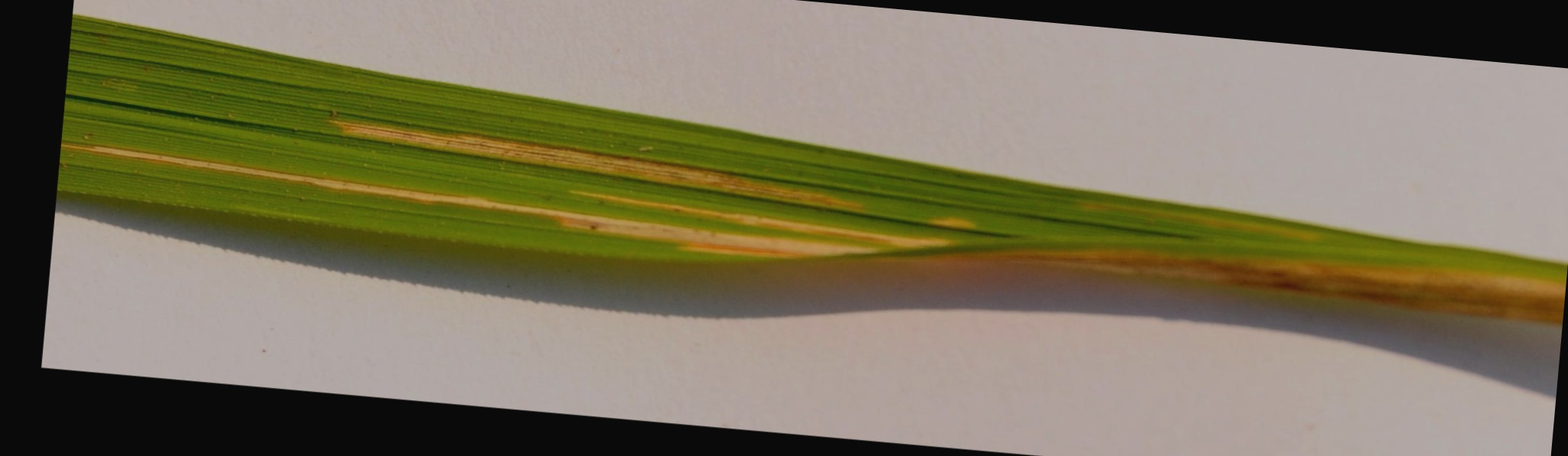Leaf_Blast: (76, 165, 1568, 255)
